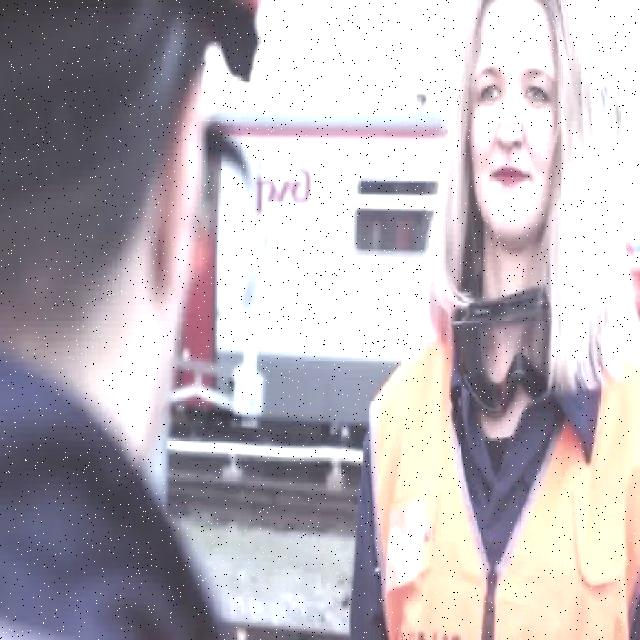Mask: (366, 331, 639, 638)
